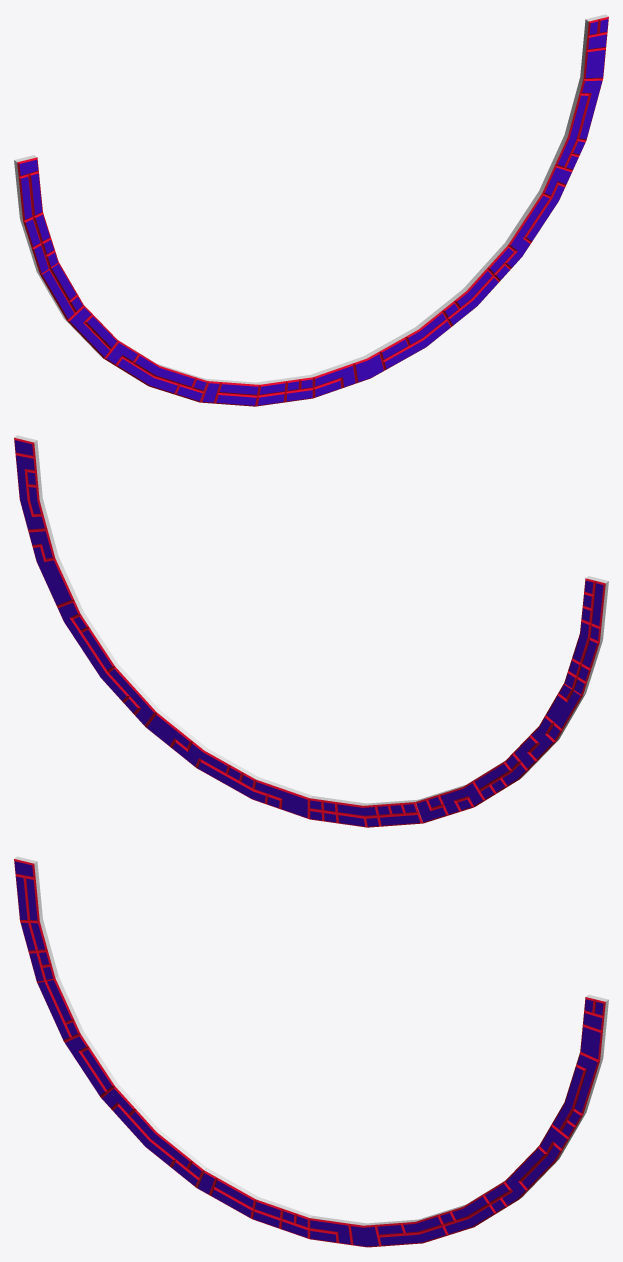
File: SM-Sci-fi planet walls_props2.fbx
3 renders of one model, top to bottom at view 1: azimuth 30°, elevation 25°; view 2: azimuth 150°, elevation 25°; view 3: azimuth 330°, elevation 25°, orthographic.
Parts seen in each view (by area): view 1: SM-panels 90d, SM-panels 45d, SM-panels 22.5d-2, SM-panels 22.5d, SM-Wall 90d; view 2: SM-panels 90d, SM-panels 45d, SM-panels 22.5d-2, SM-panels 22.5d, SM-Wall 90d; view 3: SM-panels 90d, SM-panels 45d, SM-panels 22.5d-2, SM-panels 22.5d, SM-Wall 90d, SM-Wall 45d, SM-Wall 22.5d-2.
Part boxes in pixels (box(x1,y1,x2,y2)): SM-panels 90d: box(313, 16, 608, 398); SM-panels 45d: box(40, 262, 207, 402); SM-panels 22.5d-2: box(17, 157, 58, 274); SM-panels 22.5d: box(200, 377, 312, 406); SM-Wall 90d: box(310, 14, 608, 376); SM-panels 90d: box(14, 437, 309, 819); SM-panels 45d: box(415, 683, 582, 823); SM-panels 22.5d-2: box(564, 578, 605, 695); SM-panels 22.5d: box(310, 798, 422, 827); SM-Wall 90d: box(14, 435, 312, 797); SM-panels 90d: box(310, 997, 605, 1247); SM-panels 45d: box(37, 978, 203, 1187); SM-panels 22.5d-2: box(14, 859, 55, 981); SM-panels 22.5d: box(197, 1170, 309, 1239); SM-Wall 90d: box(310, 994, 608, 1225); SM-Wall 45d: box(55, 976, 206, 1186); SM-Wall 22.5d-2: box(14, 856, 58, 978).
Bounding box in the file's own units: 215 × 107 × 3.
